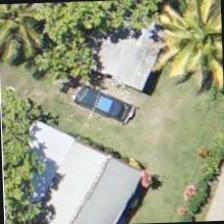Kelapa_Sawit: (151, 0, 223, 76), (0, 2, 64, 63)
